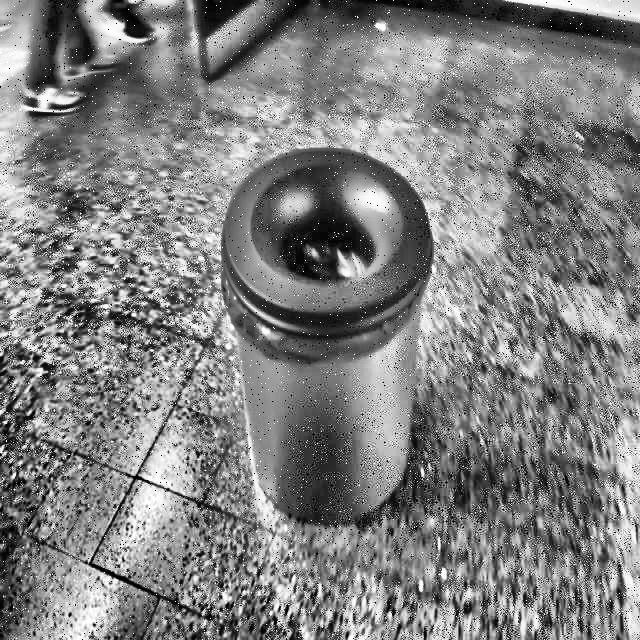Dustbin: (211, 132, 444, 544)
